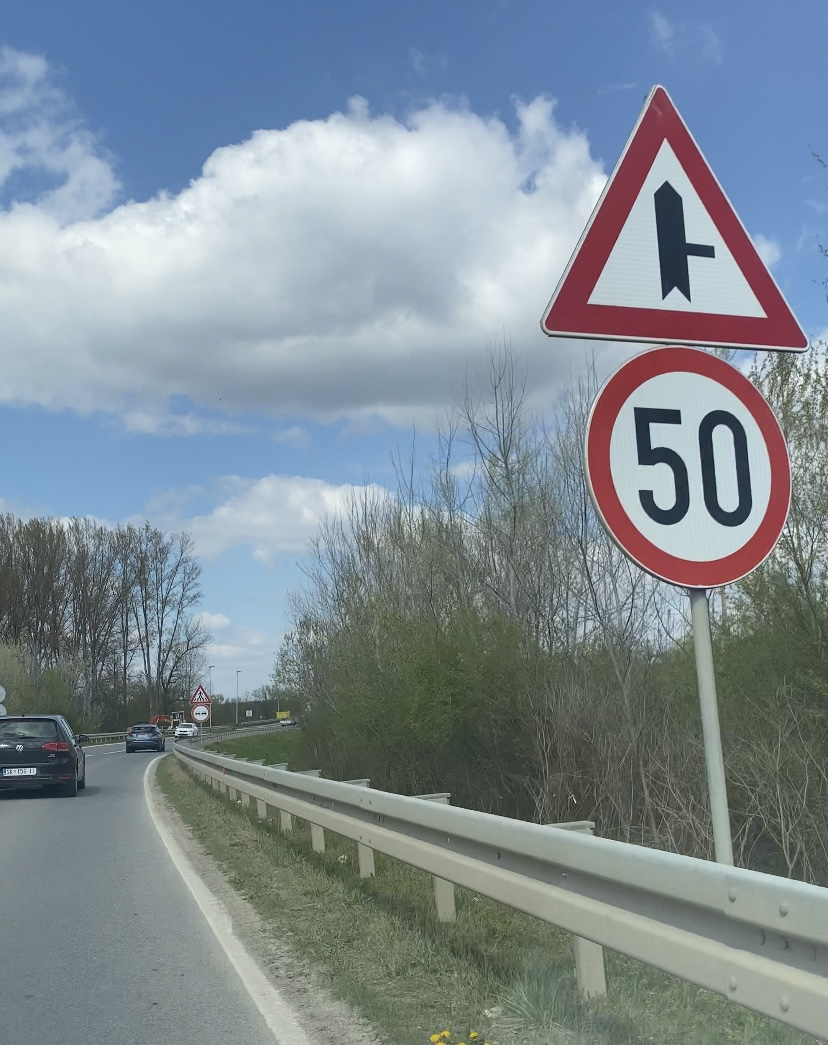Ograničenje brzine 50: (585, 345, 793, 588)
Približavanje pješačkom prijelazu: (189, 684, 213, 704)
Zabrana pretjecanja: (191, 704, 210, 722)
